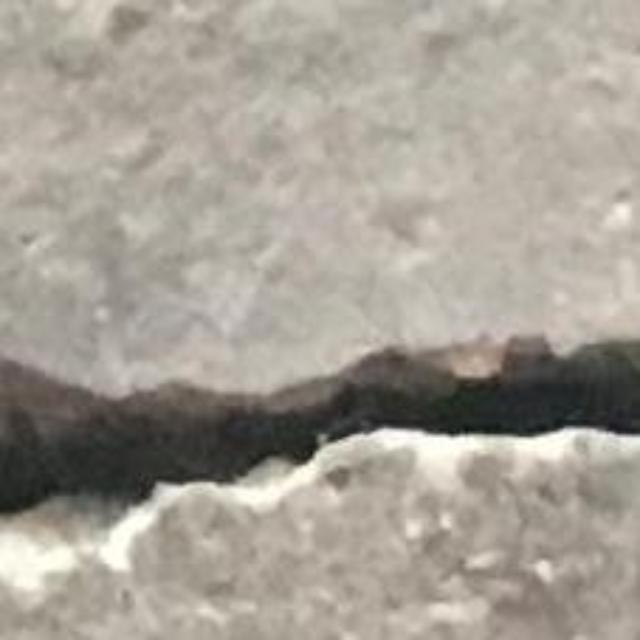crack: (0, 336, 639, 600)
